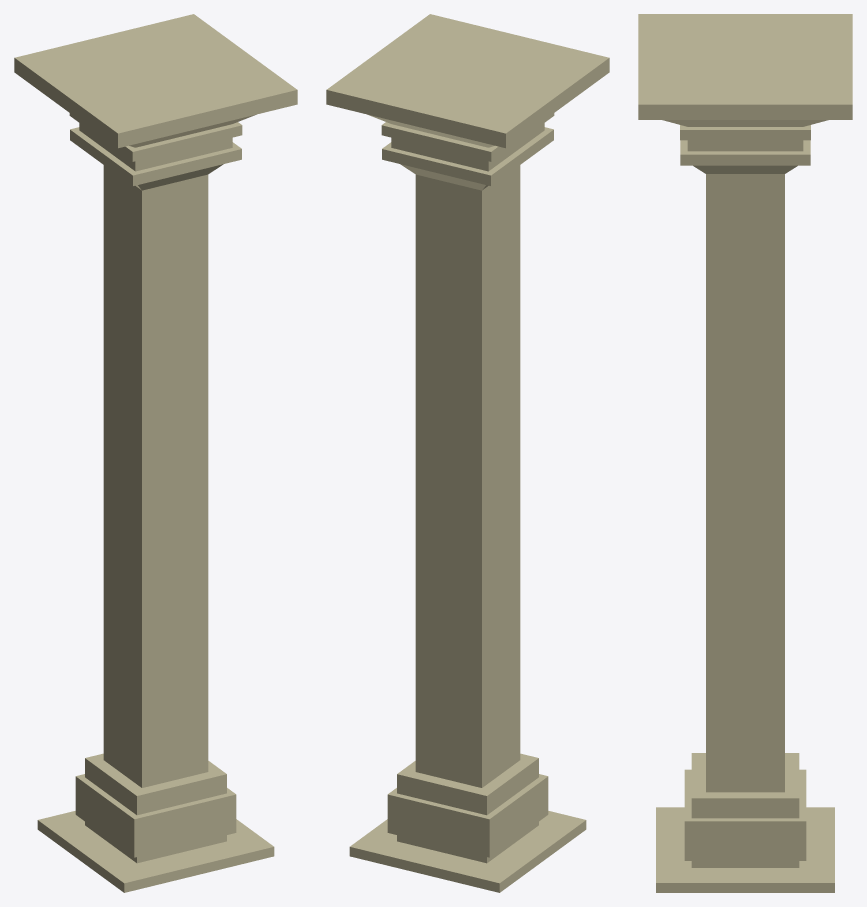
Rendered from Column.fbx.
The picture shows the model from 3 angles, left to right: view 1: azimuth 30°, elevation 25°; view 2: azimuth 150°, elevation 25°; view 3: azimuth 270°, elevation 25°; orthographic projection. The views are drawn at different scales.
Visible parts, largest first — view 1: Cube.013; view 2: Cube.013; view 3: Cube.013.
Boxes of the visible parts, bbox=[...] form: Cube.013: bbox=[14, 14, 297, 892]; Cube.013: bbox=[326, 14, 609, 892]; Cube.013: bbox=[638, 14, 852, 892].
Size of the model in its own units: 82.04 by 336 by 82.04.
